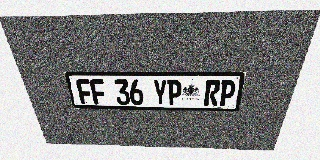3: (114, 79, 130, 105)
6: (128, 79, 144, 105)
F: (75, 79, 94, 104), (89, 79, 107, 104)
P: (218, 80, 237, 106), (167, 80, 182, 105)
R: (204, 80, 221, 106)
Y: (153, 80, 167, 105)
